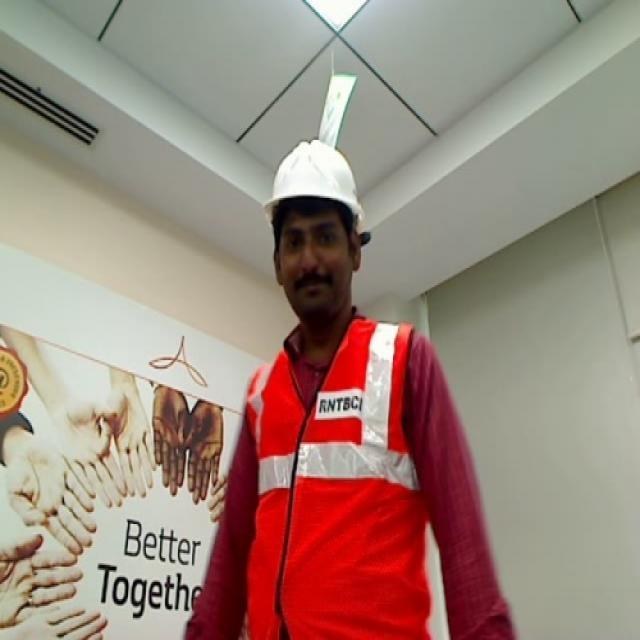safety_helmet: (245, 317, 432, 640)
